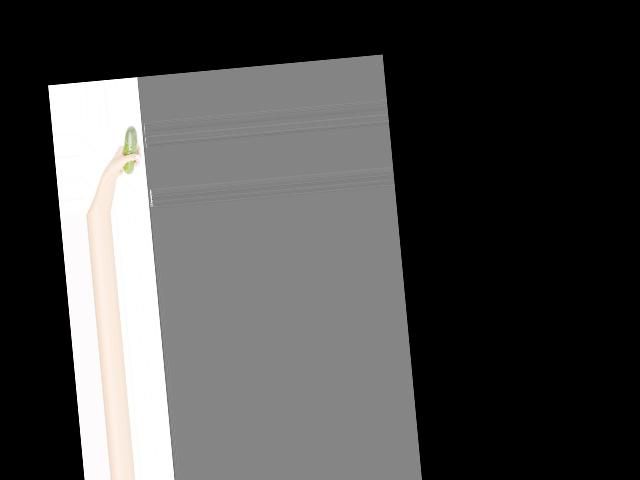cucumber: (119, 125, 141, 173)
